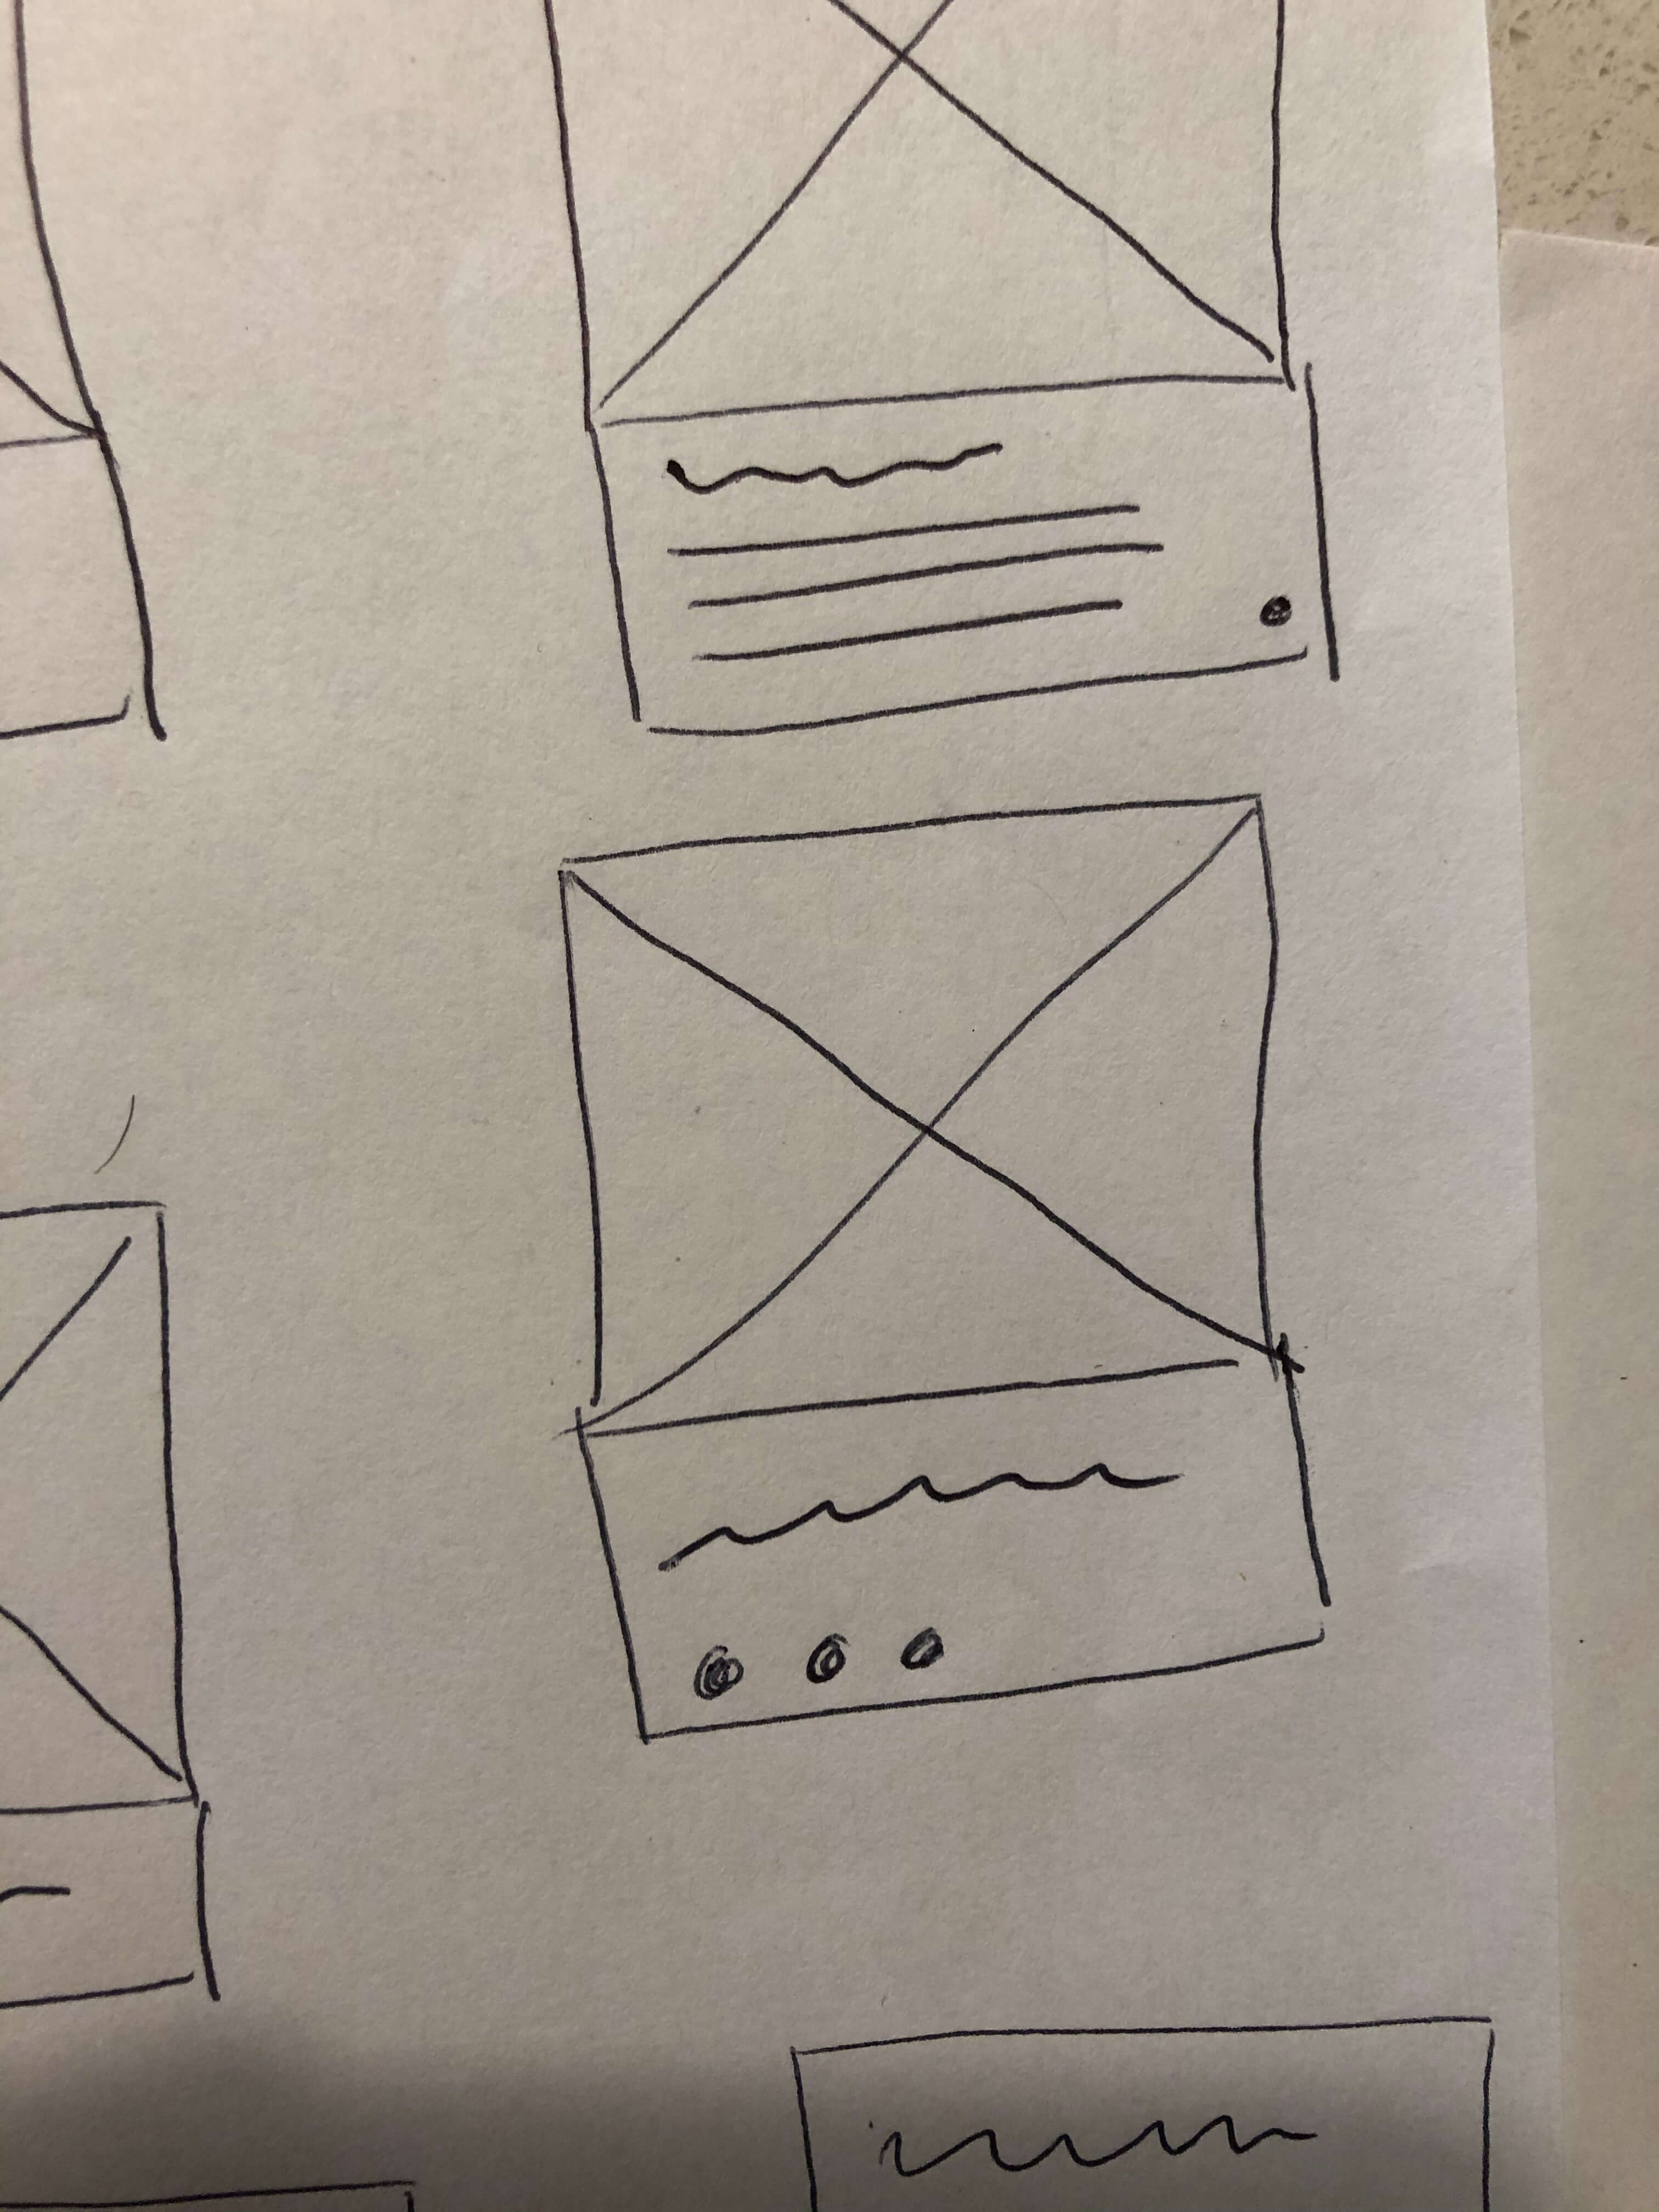card: (509, 787, 1373, 1761)
